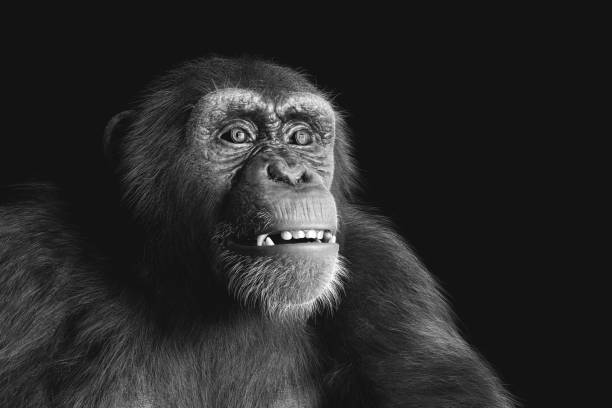chimpanzee: (59, 40, 388, 342)
